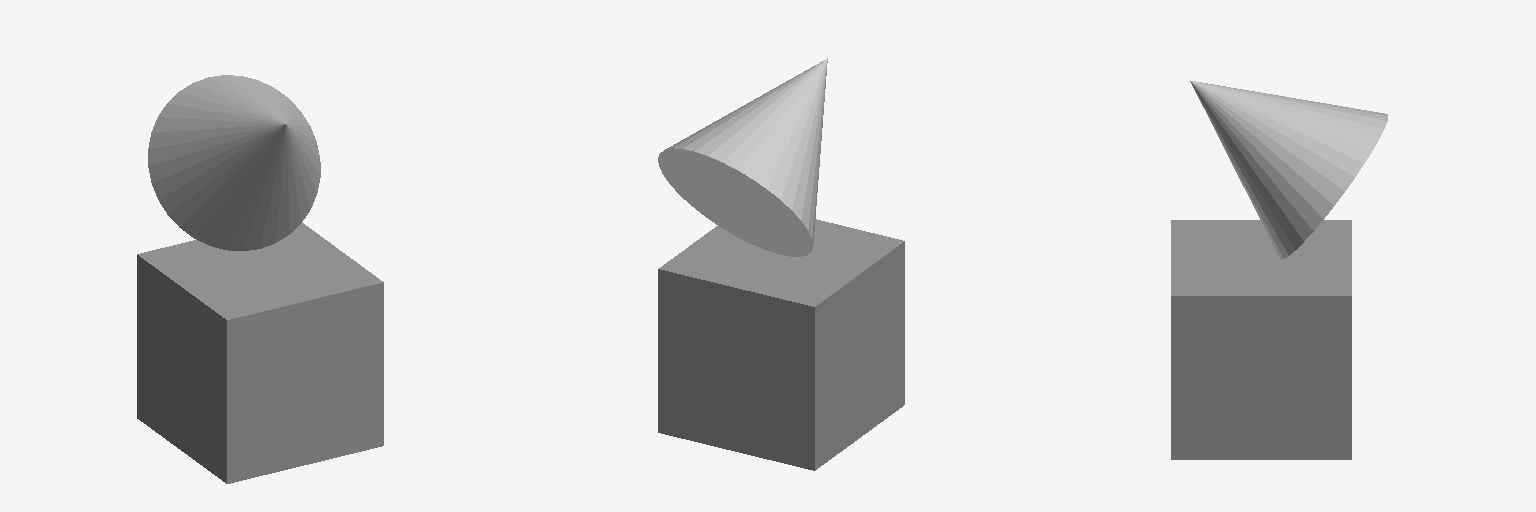
File: truc.obj
The picture shows the model from 3 angles: view 1: azimuth 30°, elevation 25°; view 2: azimuth 150°, elevation 25°; view 3: azimuth 270°, elevation 25°; orthographic projection.
Parts seen in each view (by area): view 1: Cube, Cone; view 2: Cube, Cone; view 3: Cube, Cone.
Boxes of the visible parts, <box> form: Cube: <box>137,223,383,483</box>; Cone: <box>148,75,320,250</box>; Cube: <box>658,219,904,470</box>; Cone: <box>658,58,827,256</box>; Cube: <box>1171,220,1351,459</box>; Cone: <box>1190,81,1387,259</box>.
Bounding box in the file's own units: 2.12 × 4.11 × 2.4.